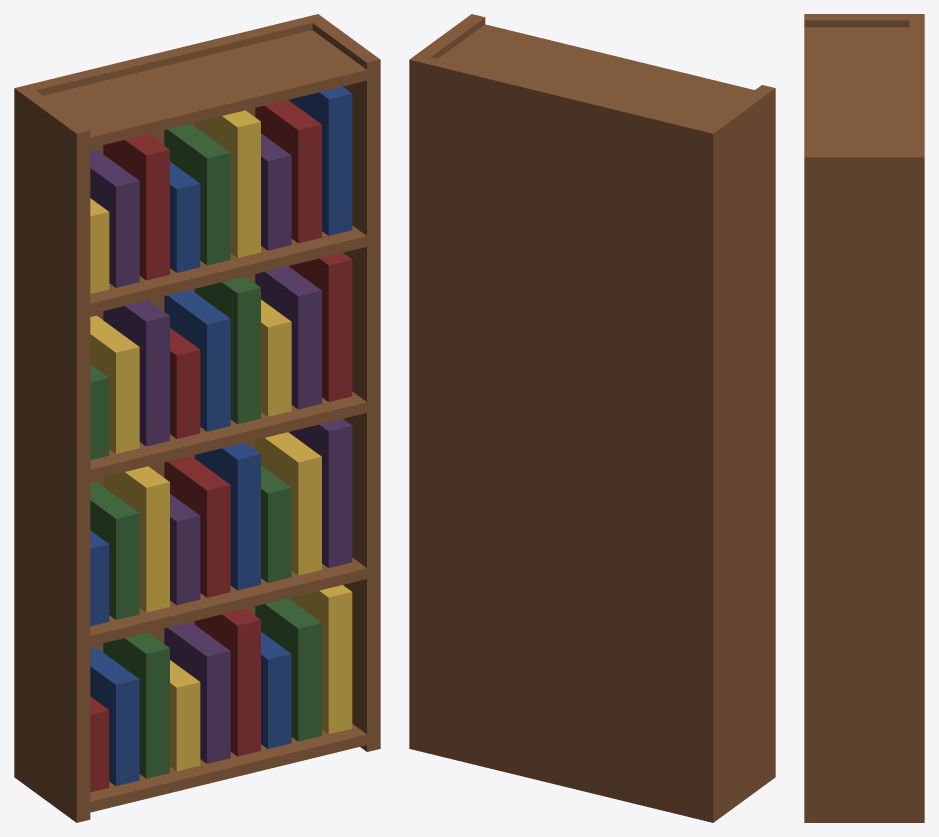
The model's file is bookshelf.glb.
3 views of the same model, side by side, from view 1: azimuth 30°, elevation 25°; view 2: azimuth 150°, elevation 25°; view 3: azimuth 270°, elevation 25° (orthographic). The views are drawn at different scales.
Visible parts, largest first — view 1: bookshelf; view 2: bookshelf; view 3: bookshelf.
Part boxes in pixels (left/top/right/bottom): bookshelf: left=14, top=14, right=380, bottom=822; bookshelf: left=409, top=14, right=775, bottom=822; bookshelf: left=804, top=14, right=924, bottom=822.
Bounding box in the file's own units: 0.9 × 1.95 × 0.32.
